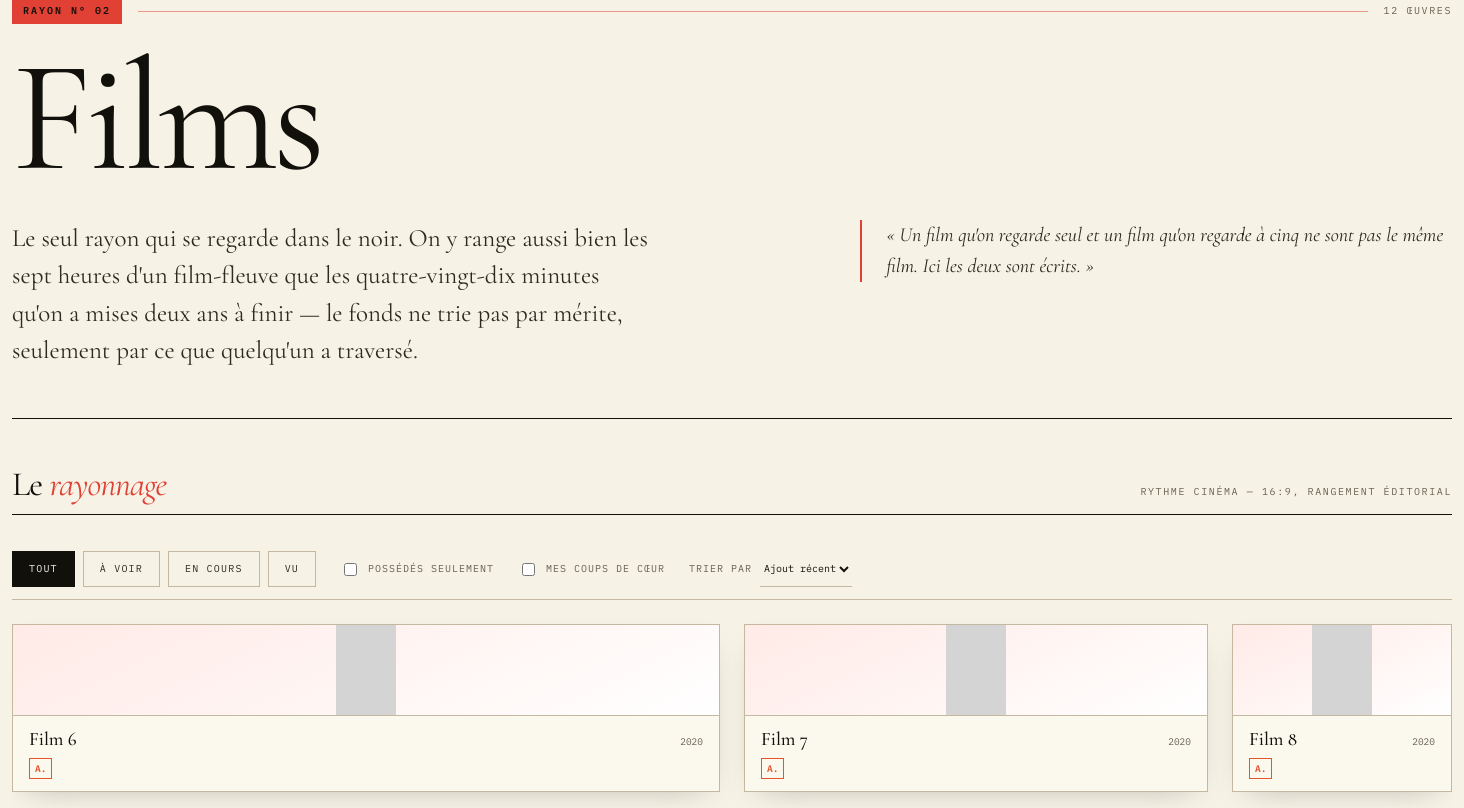
Test: Rayon — la page dans l’adresse › revient à la première page quand le tri change
Expected: the text "Film 6" is shown, [29,728,77,750]
Select "Titre" in the dropdown labelled "Trier par" at (806, 569), box [760,551,852,587]
(page scrolled)
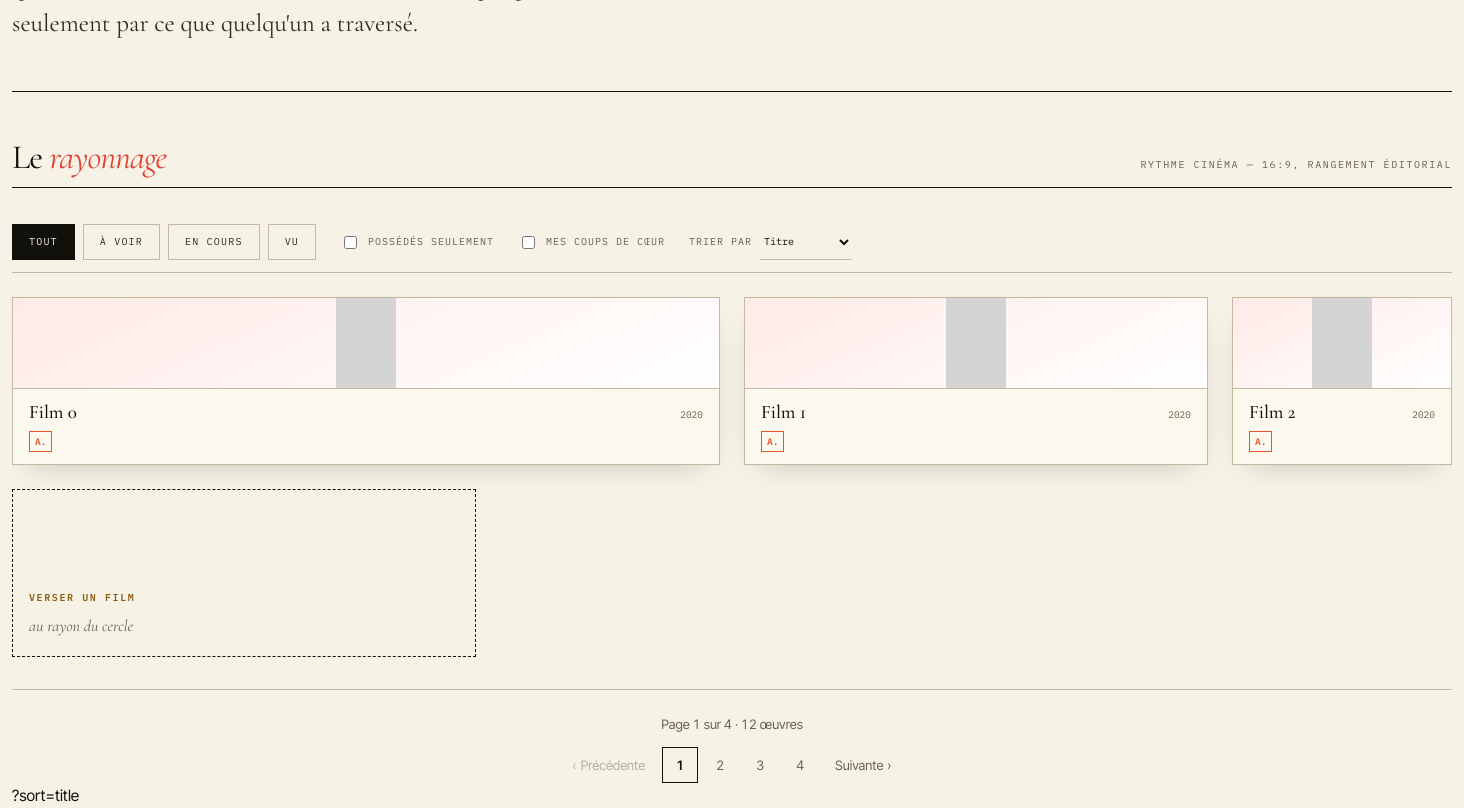
Now the text with test id "adresse" reads "?sort=title", box [12,786,79,805]
